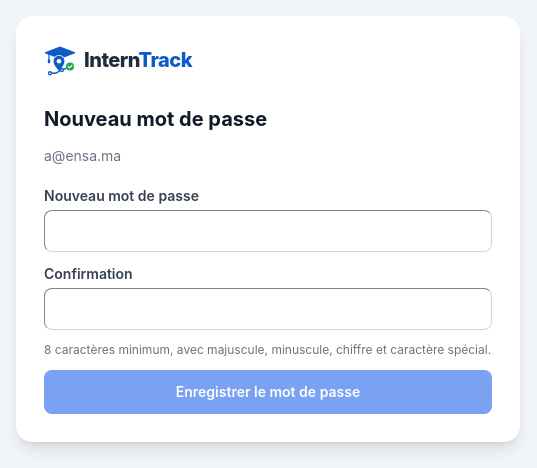
it: Réinitialisation du mot de passe › envoie e-mail, jeton et nouveau mot de passe
In the password field labelled "Nouveau mot de passe": (268, 231) [44, 210, 492, 252], type "Secret@2026"
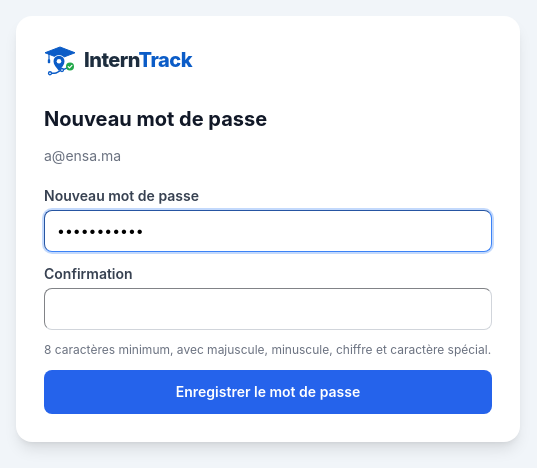
In the password field labelled "Confirmation": (268, 309) [44, 288, 492, 330], type "Secret@2026"
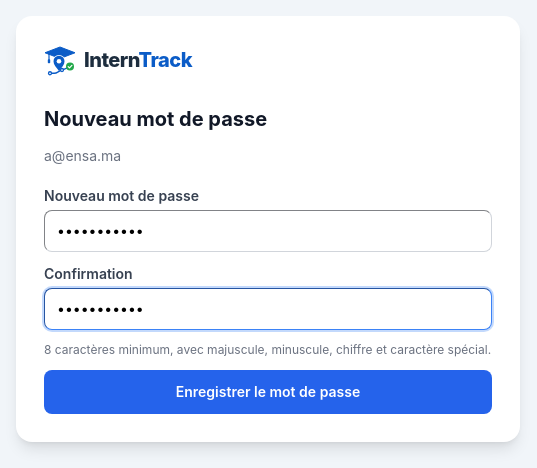
Click the button "Enregistrer le mot de passe": (268, 392) [44, 370, 492, 414]
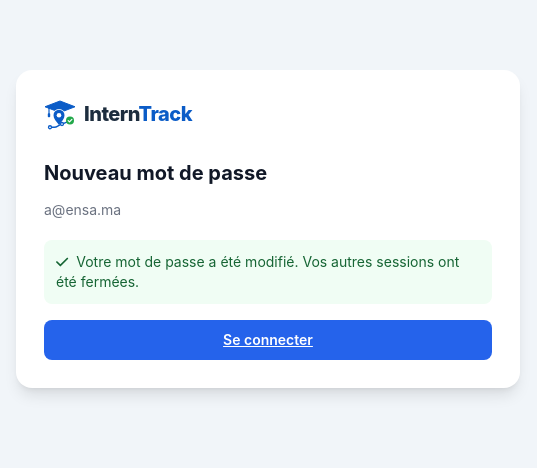
Now the text "Votre mot de passe a été modifié" is shown, box [56, 253, 459, 290]
